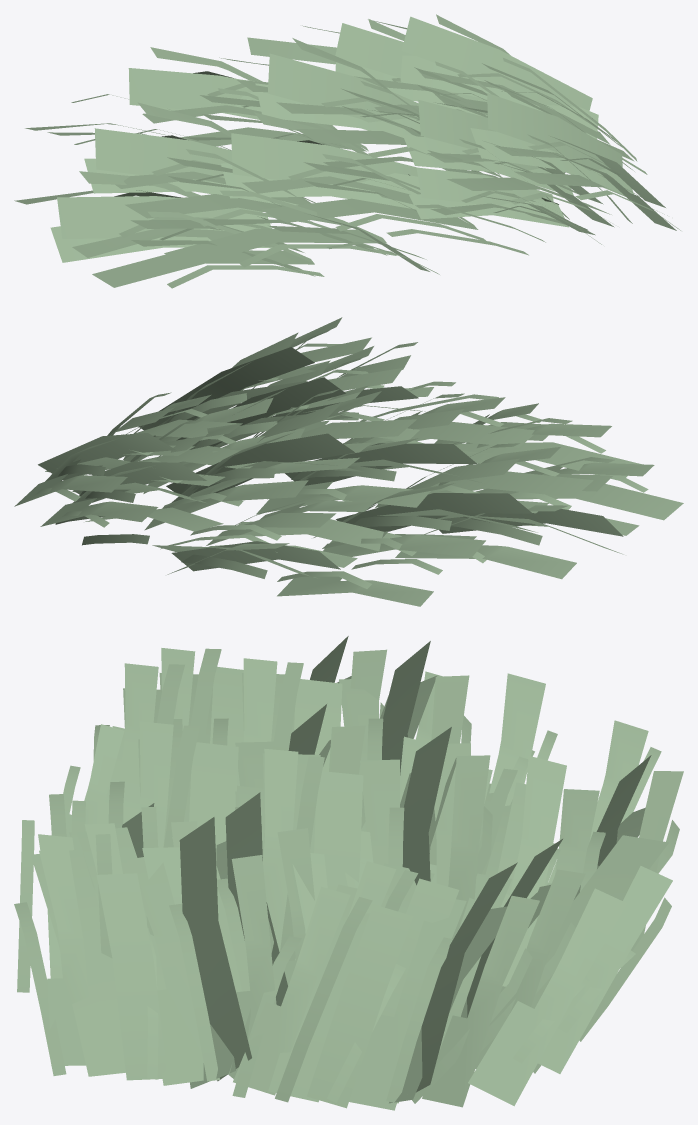
Rendered from SM_ocean_eelGrass_07.fbx.
3 views of the same model, one above another, from view 1: azimuth 30°, elevation 25°; view 2: azimuth 150°, elevation 25°; view 3: azimuth 270°, elevation 25° (orthographic). The views are drawn at different scales.
Parts seen in each view (by area): view 1: SM_ocean_eelGrass_07_LOD0; view 2: SM_ocean_eelGrass_07_LOD0; view 3: SM_ocean_eelGrass_07_LOD0.
Boxes of the visible parts, x1=… form: SM_ocean_eelGrass_07_LOD0: x1=14, y1=14, x2=680, y2=288; SM_ocean_eelGrass_07_LOD0: x1=14, y1=317, x2=683, y2=606; SM_ocean_eelGrass_07_LOD0: x1=14, y1=636, x2=683, y2=1110.
Size of what is drawn, in the model's own units: 850 by 638 by 198.
